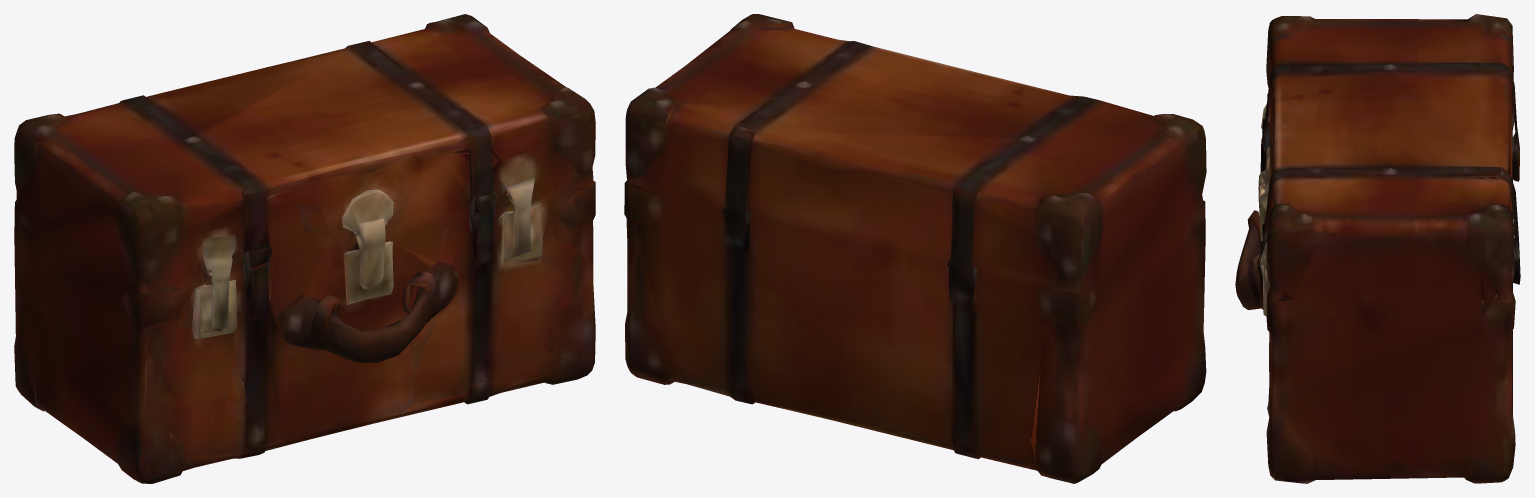
File: baul.movil.glb
3 renders of one model, left to right at view 1: azimuth 30°, elevation 25°; view 2: azimuth 150°, elevation 25°; view 3: azimuth 270°, elevation 25°, orthographic. The views are drawn at different scales.
Visible parts, largest first — view 1: geometry_0; view 2: geometry_0; view 3: geometry_0.
Boxes of the visible parts, left/top/right/bottom form: geometry_0: left=14, top=14, right=595, bottom=483; geometry_0: left=624, top=14, right=1206, bottom=483; geometry_0: left=1235, top=14, right=1520, bottom=483.
Bounding box in the file's own units: 0.8495 × 0.5 × 0.4794.
Materials: 1 (1 with a texture image).
